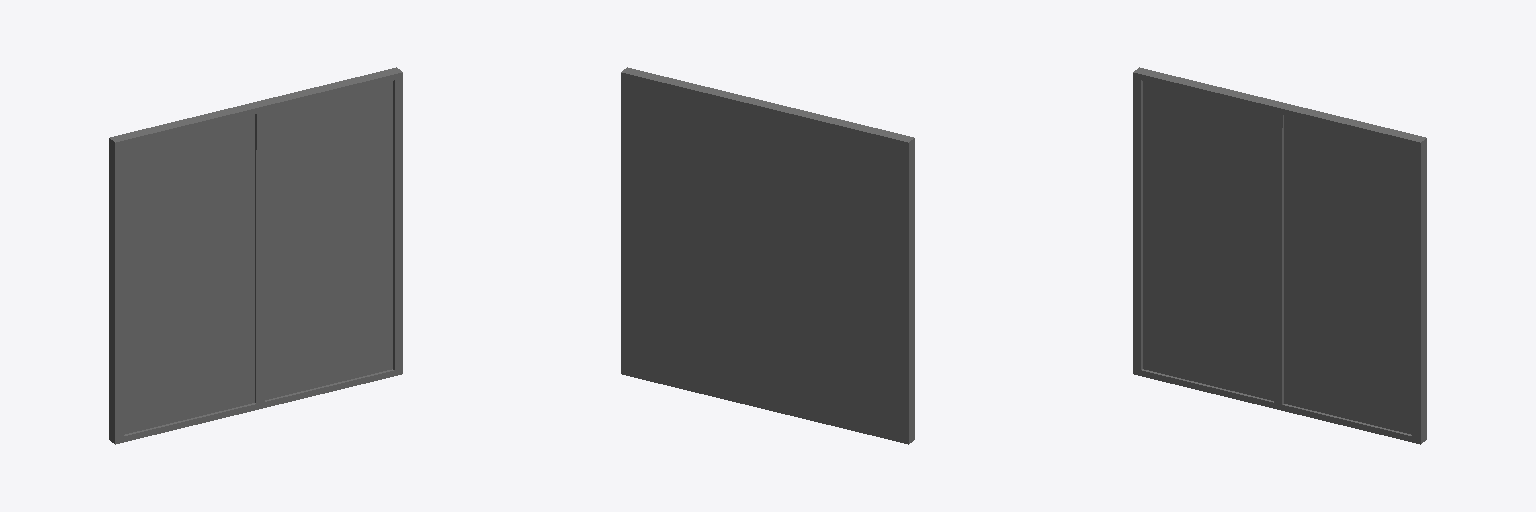
The model's file is Wall_baseWDivider_001_obj.obj.
3 views of the same model, side by side, from view 1: azimuth 30°, elevation 25°; view 2: azimuth 150°, elevation 25°; view 3: azimuth 330°, elevation 25° (orthographic).
Parts seen in each view (by area): view 1: Wall_baseWDivider_001_obj.obj; view 2: Wall_baseWDivider_001_obj.obj; view 3: Wall_baseWDivider_001_obj.obj.
Boxes of the visible parts, x1=… form: Wall_baseWDivider_001_obj.obj: x1=109, y1=67, x2=402, y2=444; Wall_baseWDivider_001_obj.obj: x1=621, y1=67, x2=914, y2=444; Wall_baseWDivider_001_obj.obj: x1=1133, y1=67, x2=1426, y2=444.
Size of the model in its own units: 398 by 398 by 15.9.